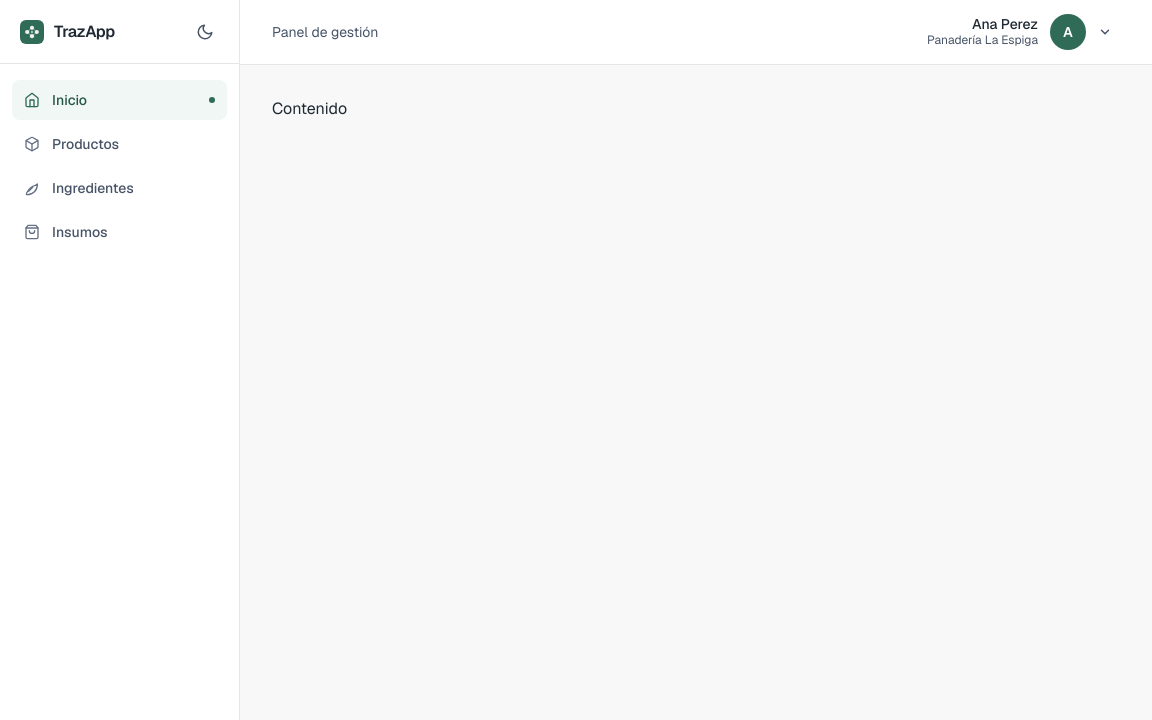
it: Menú de usuario del header › abre con teclado, ofrece Mi perfil y cierra con Esc devolviendo el foco
Click the button with aria-label "Menú de usuario: Ana Perez".
click(1020, 32)  # box [919,10,1120,54]
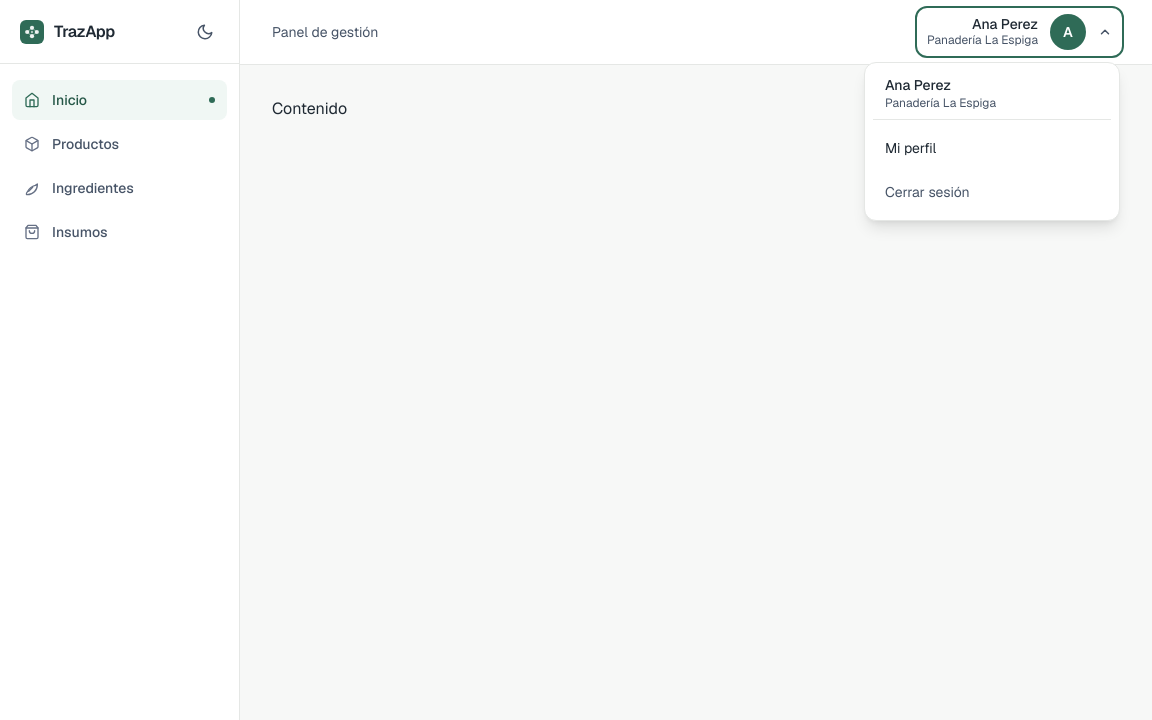
Result: the button with aria-label "Menú de usuario: Ana Perez" is expanded at [919,10,1120,54]
Press Escape
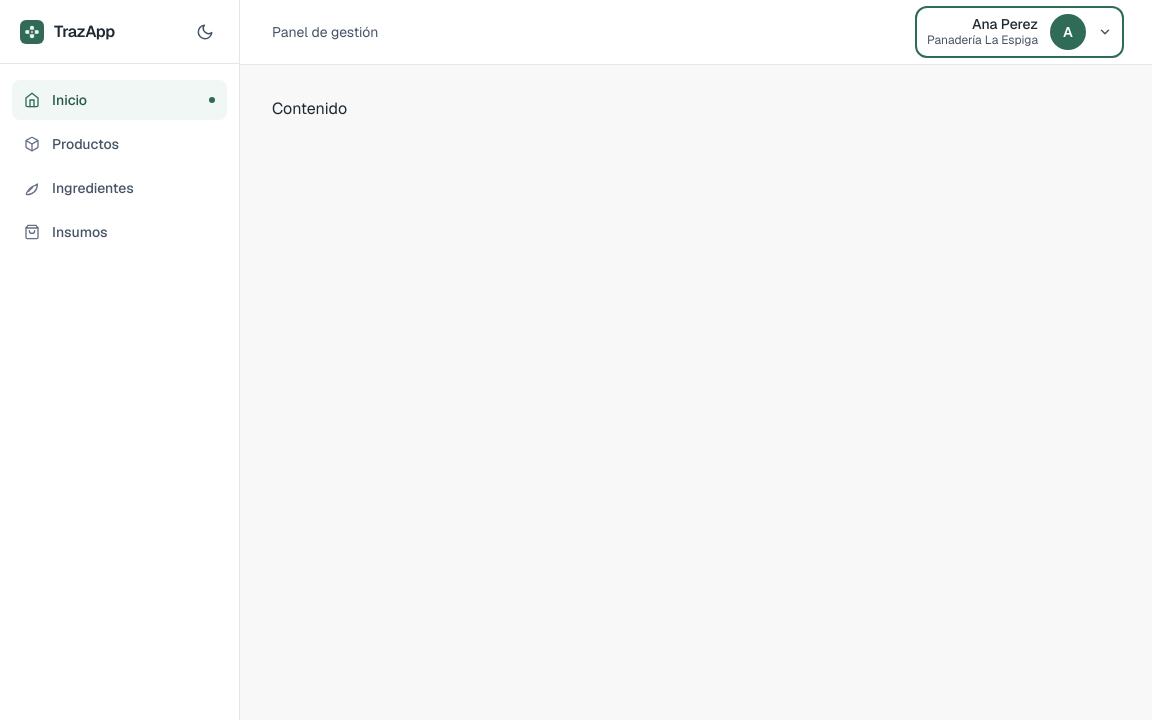
Result: the link "Mi perfil" is gone
